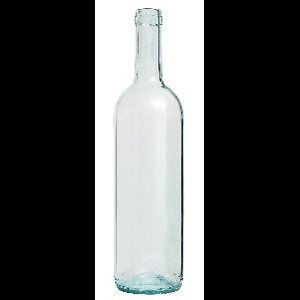emptybottle: (113, 8, 184, 294)
